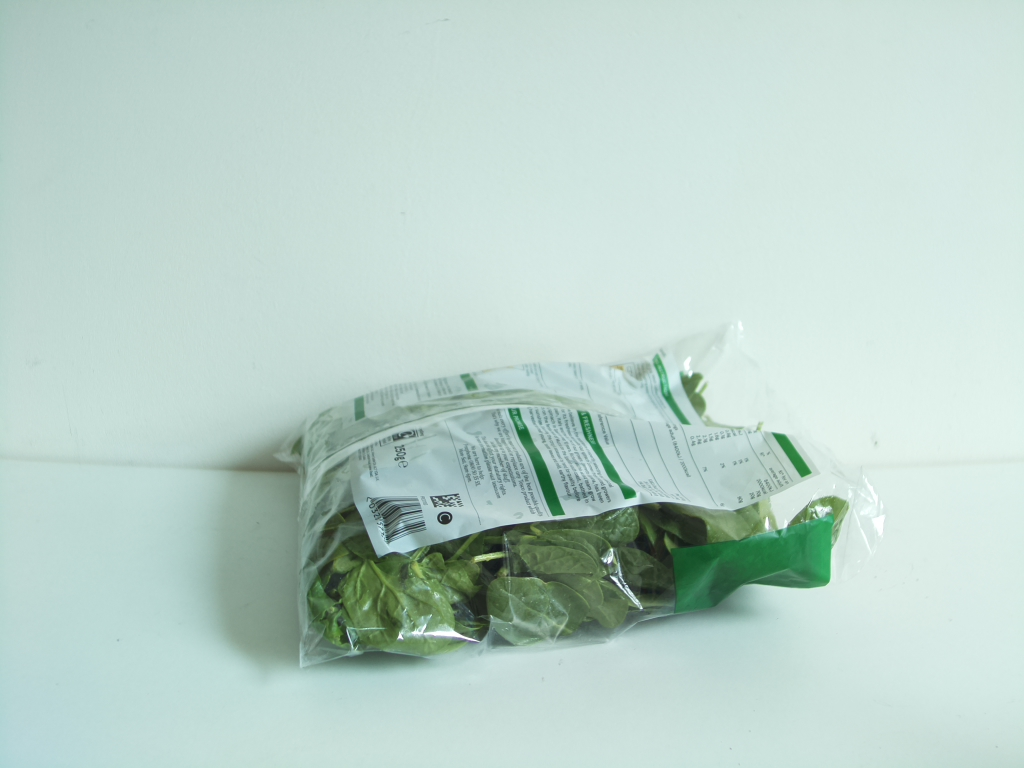salad: (296, 349, 845, 666)
